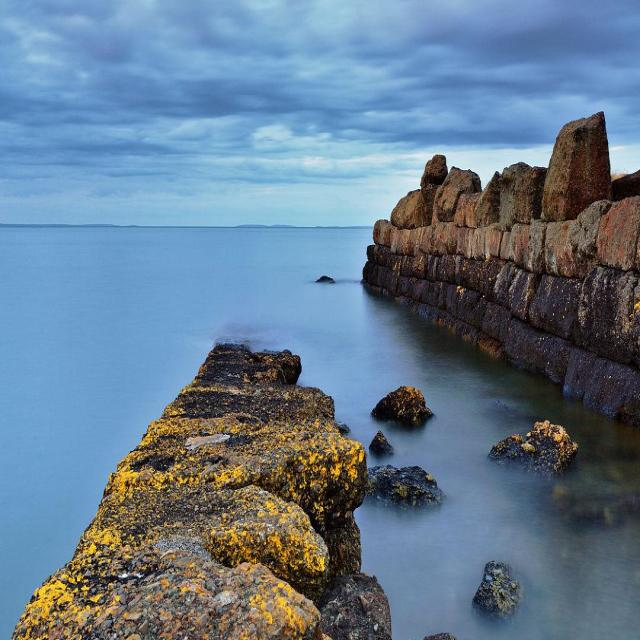reef: (58, 348, 464, 640), (369, 135, 640, 373), (472, 502, 545, 636), (476, 402, 577, 486)
